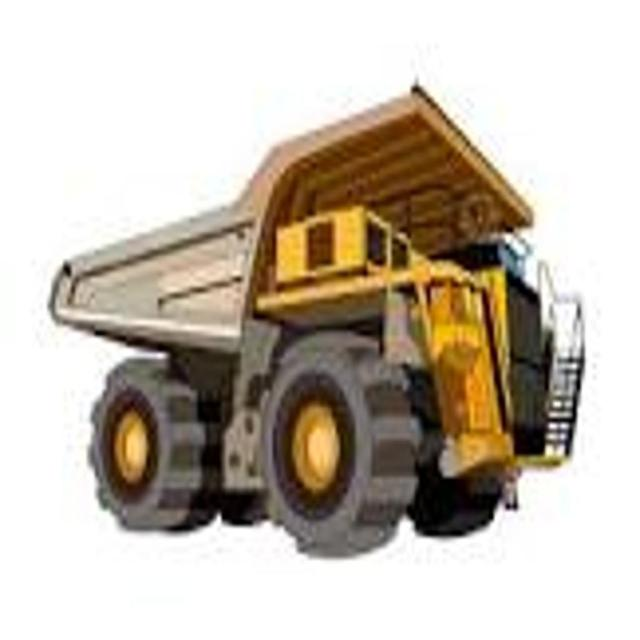dump_truck: (44, 70, 593, 558)
